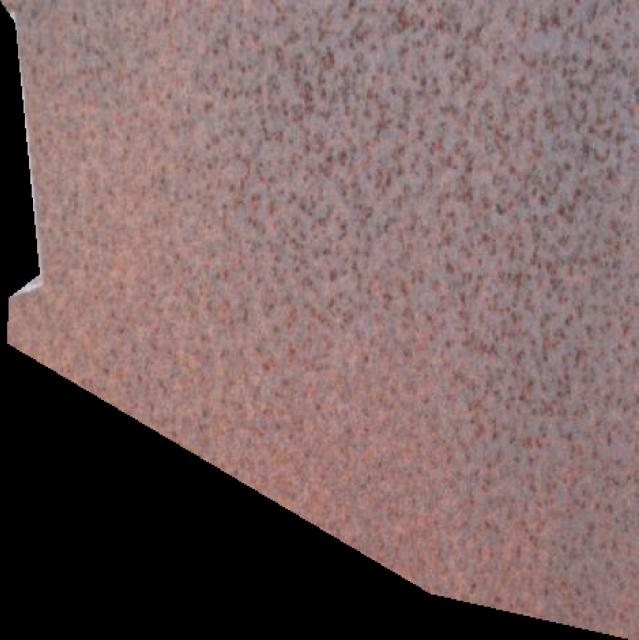Pitting Corrosion: (0, 0, 639, 640)
